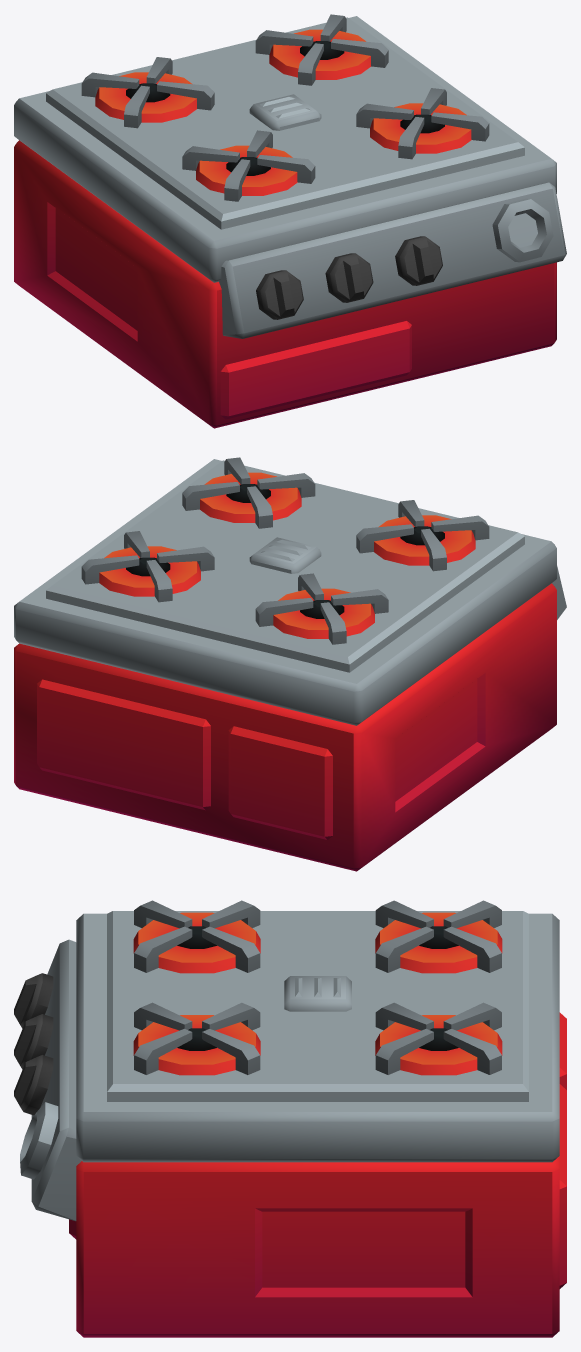
The model's file is stove_multi.obj.
The picture shows the model from 3 angles, top to bottom: view 1: azimuth 30°, elevation 25°; view 2: azimuth 150°, elevation 25°; view 3: azimuth 270°, elevation 25°; orthographic projection. The views are drawn at different scales.
Visible parts, largest first — view 1: stove_multi_Cube.423; view 2: stove_multi_Cube.423; view 3: stove_multi_Cube.423.
Boxes of the visible parts, x1,y1,x2,y2 form: stove_multi_Cube.423: (14,14,566,428); stove_multi_Cube.423: (14,457,566,871); stove_multi_Cube.423: (14,900,566,1337).
Size of the model in its own units: 2 by 1.2 by 2.29.
1 material, 1 textured.
